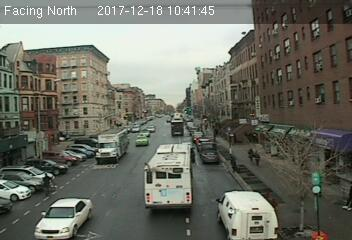bus: (144, 144, 193, 210)
car: (33, 197, 96, 239), (200, 149, 219, 163), (136, 134, 147, 145)
truck: (218, 189, 278, 240), (96, 128, 127, 161)
